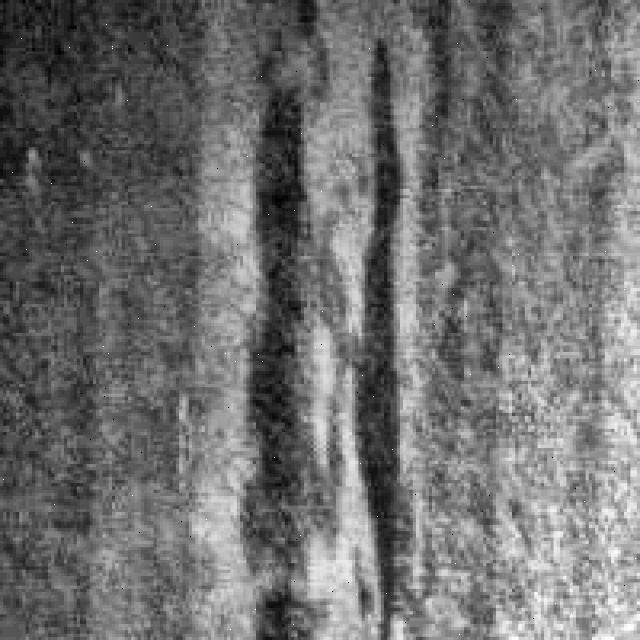Patches: (237, 29, 400, 630)
